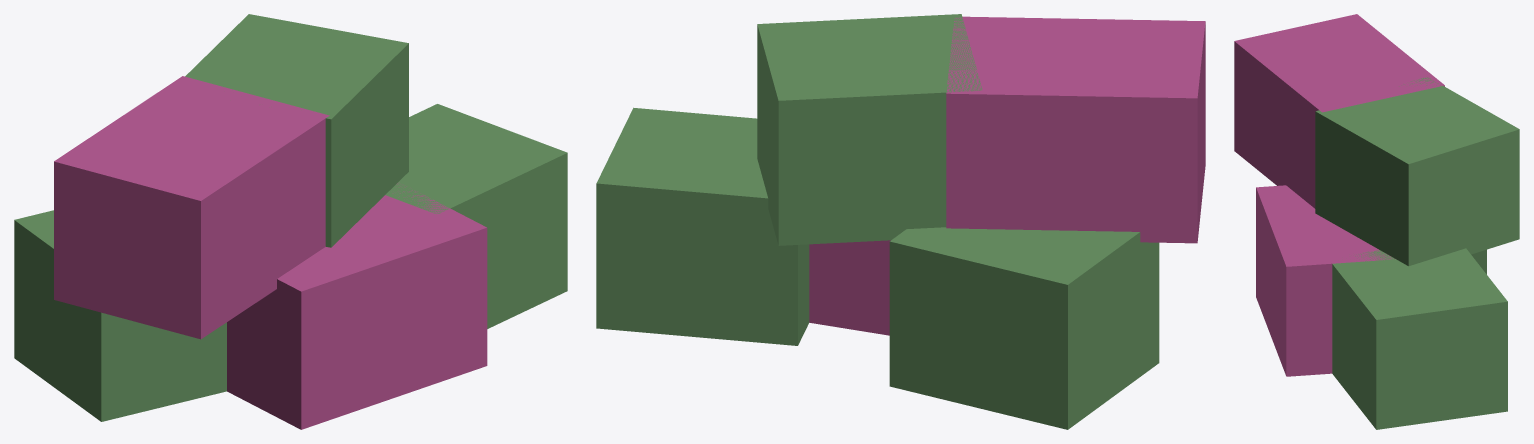
The model's file is story-prop.glb.
The picture shows the model from 3 angles, left to right: view 1: azimuth 30°, elevation 25°; view 2: azimuth 150°, elevation 25°; view 3: azimuth 270°, elevation 25°; orthographic projection. The views are drawn at different scales.
Visible parts, largest first — view 1: crate_3, crate_1, crate_4, crate_2, crate_0; view 2: crate_3, crate_0, crate_4, crate_2, crate_1; view 3: crate_4, crate_2, crate_3, crate_1.
Part boxes in pixels (<box>): crate_3: <box>54,76,329,339</box>; crate_1: <box>227,182,487,429</box>; crate_4: <box>185,14,408,247</box>; crate_2: <box>385,104,567,328</box>; crate_0: <box>14,210,226,421</box>; crate_3: <box>946,16,1205,243</box>; crate_0: <box>889,227,1159,429</box>; crate_4: <box>757,14,982,245</box>; crate_2: <box>596,107,809,345</box>; crate_1: <box>809,240,890,335</box>; crate_4: <box>1315,77,1519,266</box>; crate_2: <box>1332,248,1507,429</box>; crate_3: <box>1234,14,1444,208</box>; crate_1: <box>1256,185,1395,376</box>.
Size of what is drawn, in the model's own units: 2.79 by 1.35 by 1.65.
